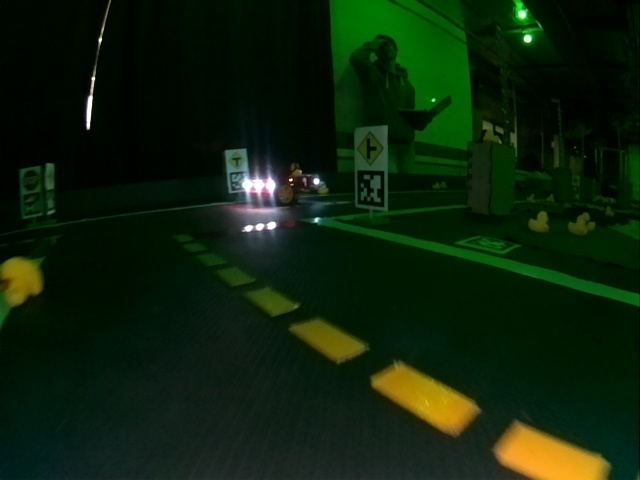Duckie: (1, 257, 43, 304), (529, 213, 549, 233), (571, 217, 587, 237), (319, 183, 326, 193)
Duckiebot: (243, 172, 318, 206)
Intersection sign: (357, 130, 383, 165), (227, 151, 244, 169)
QR code: (458, 234, 516, 255), (357, 171, 387, 209), (21, 194, 39, 217), (227, 173, 245, 193), (46, 194, 56, 212)
Stop sign: (23, 171, 40, 191)
